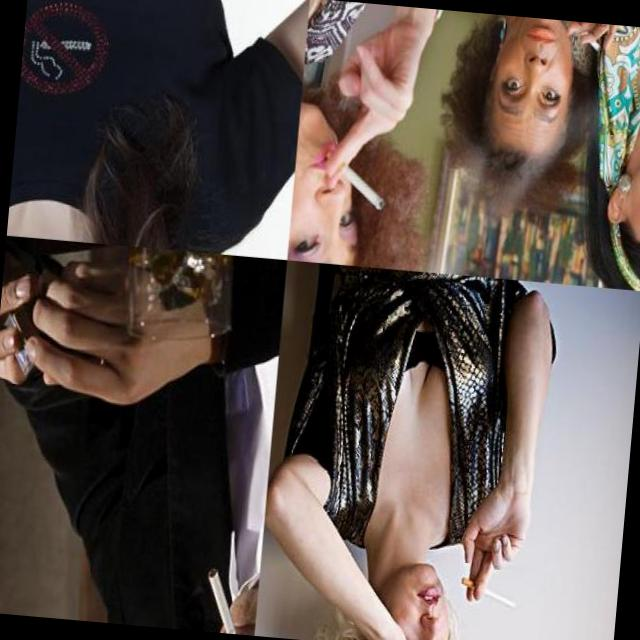smoke: (318, 150, 389, 211), (200, 564, 248, 634), (457, 575, 520, 609), (561, 22, 604, 55)
